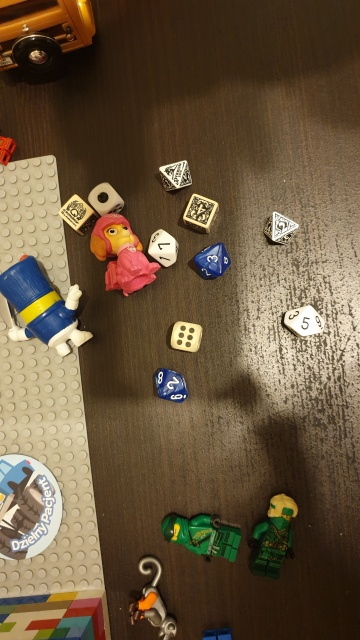d10-2: (150, 364, 190, 406)
d10-3: (190, 239, 237, 282)
d10-5: (282, 300, 328, 340)
d10-7: (145, 224, 181, 274)
d6-1: (87, 184, 128, 215)
d6-6: (168, 320, 205, 355)
d6p-4: (177, 192, 221, 233)
d6p-6: (55, 193, 91, 230)
d8p-1: (154, 156, 198, 192)
d8p-2: (264, 206, 299, 251)
